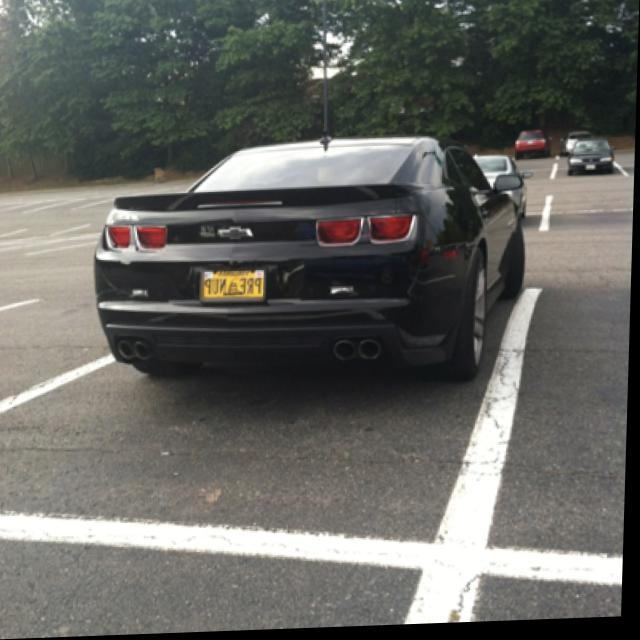licence: (203, 272, 269, 301)
